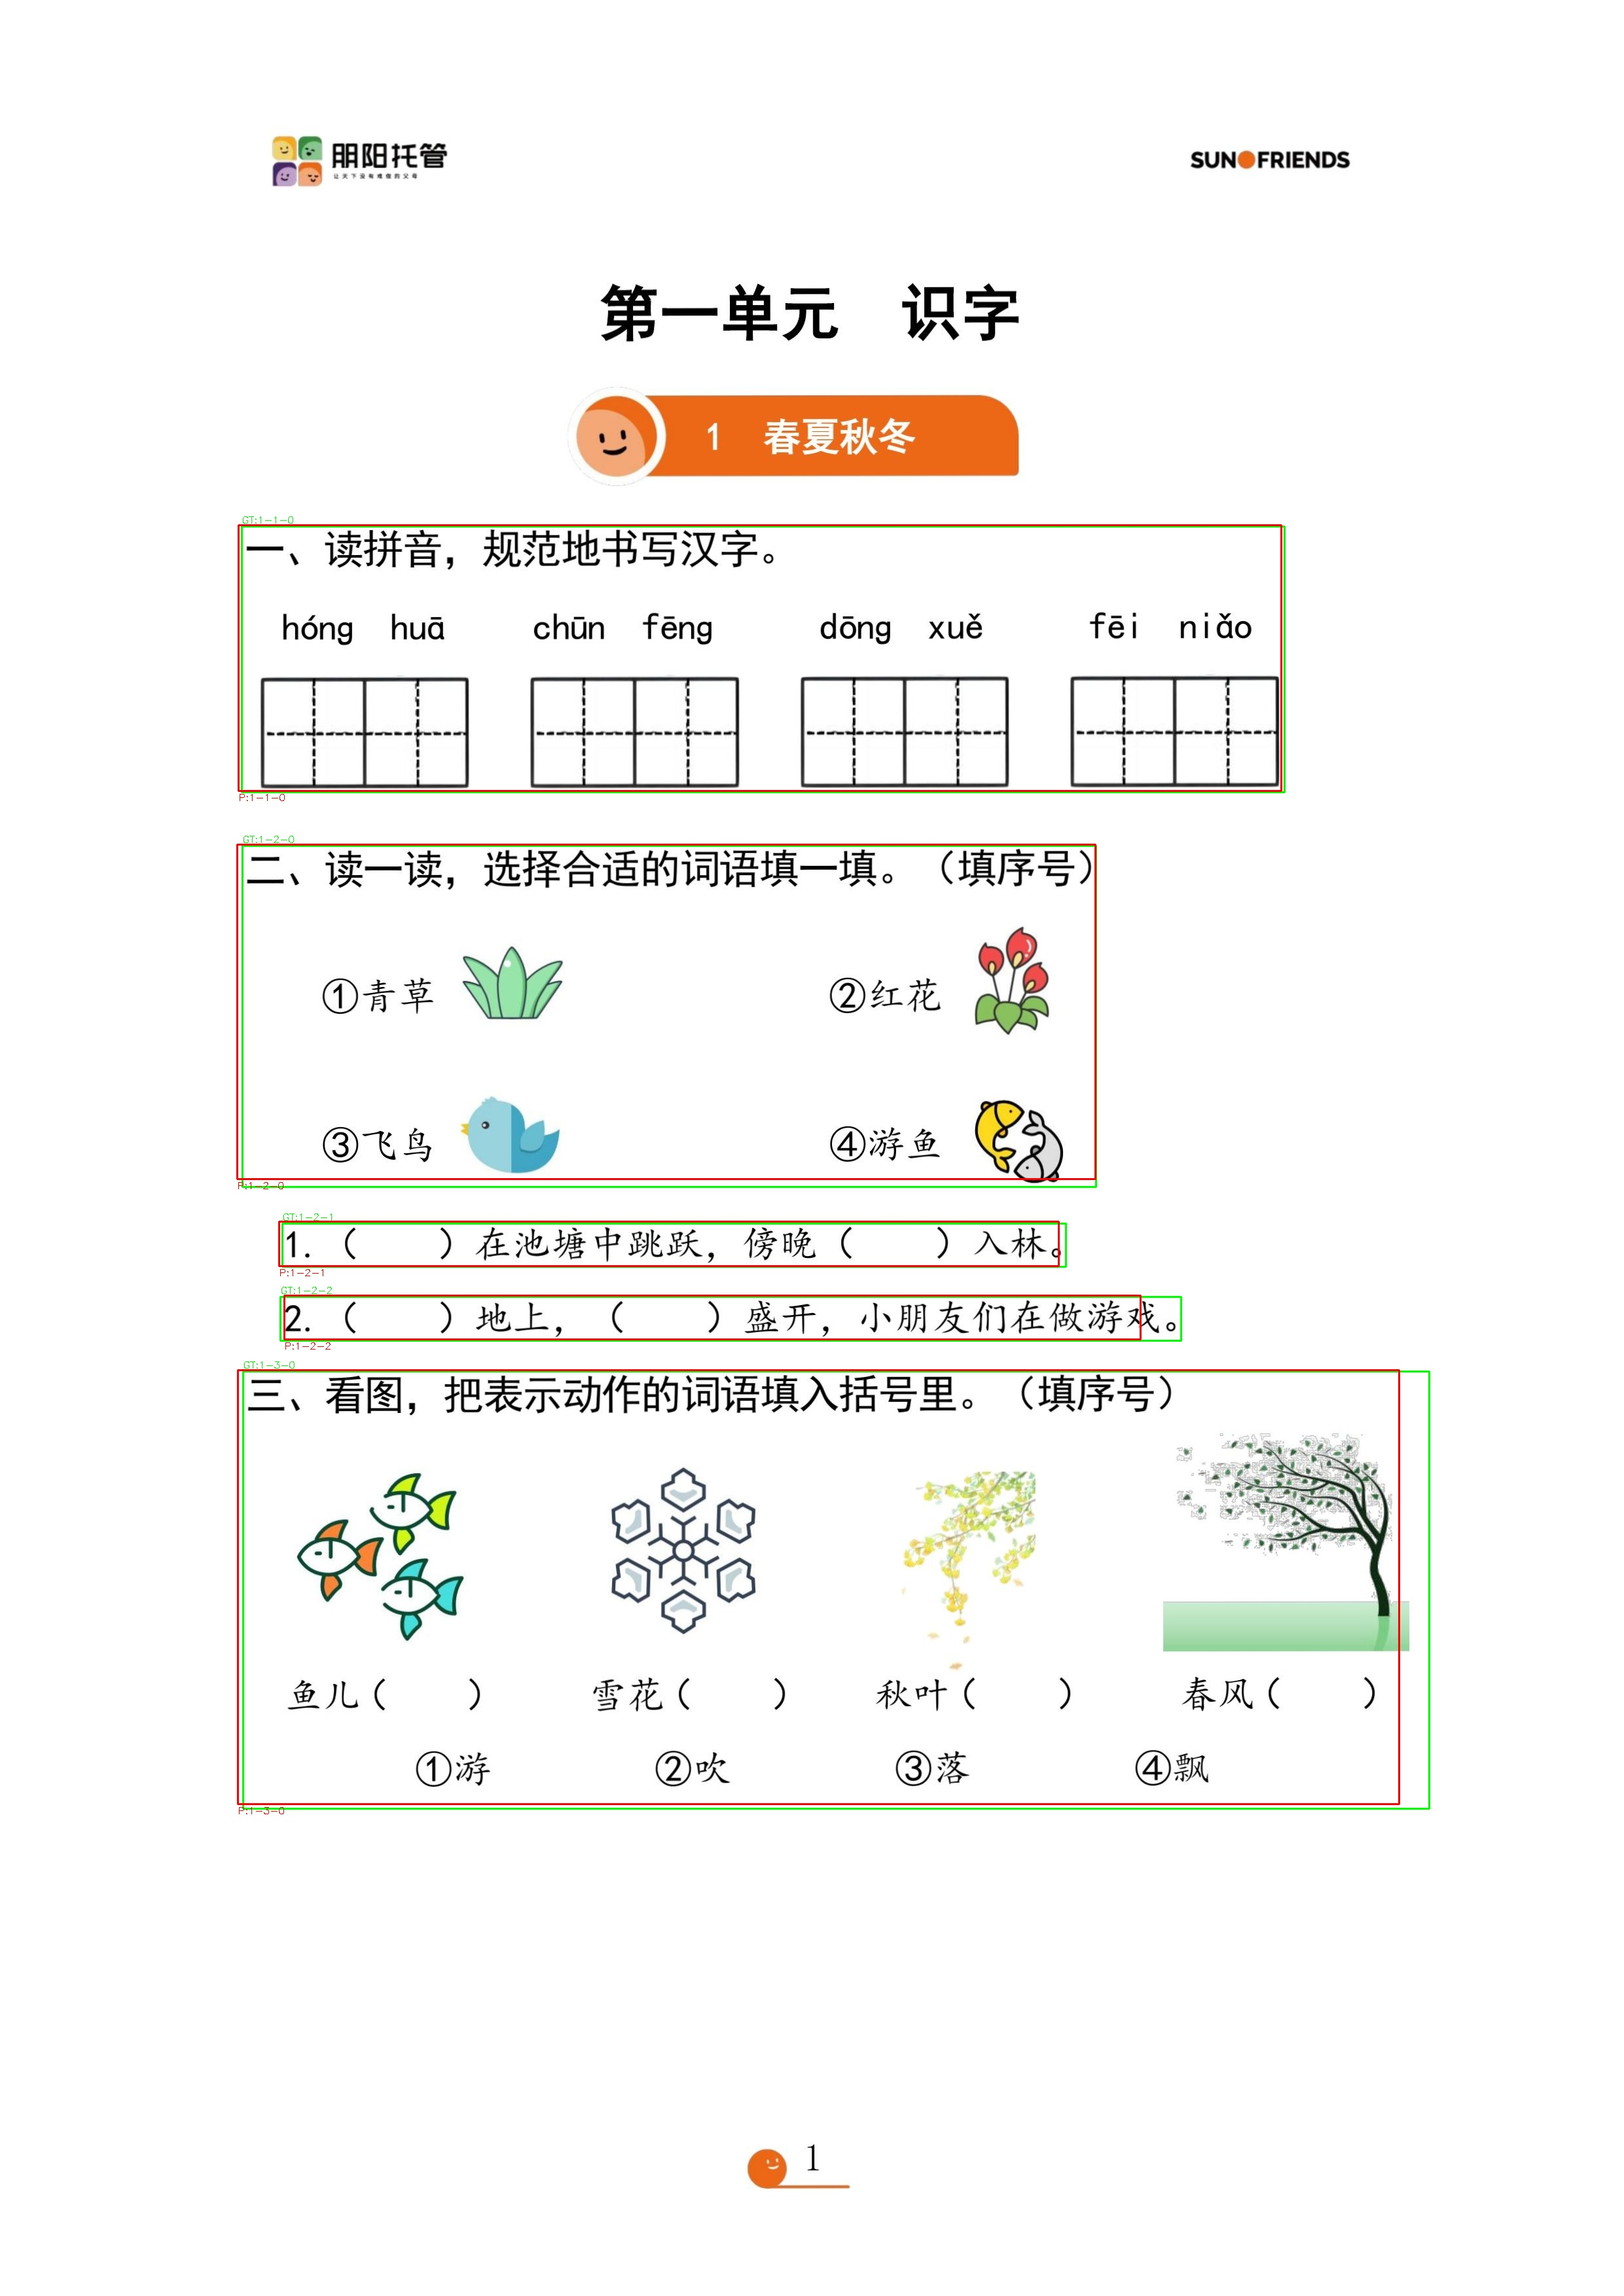1-1-0: (239, 525, 1281, 791)
1-2-0: (237, 845, 1095, 1179)
1-2-1: (279, 1221, 1058, 1267)
1-2-2: (285, 1295, 1141, 1339)
1-3-0: (237, 1370, 1399, 1804)
